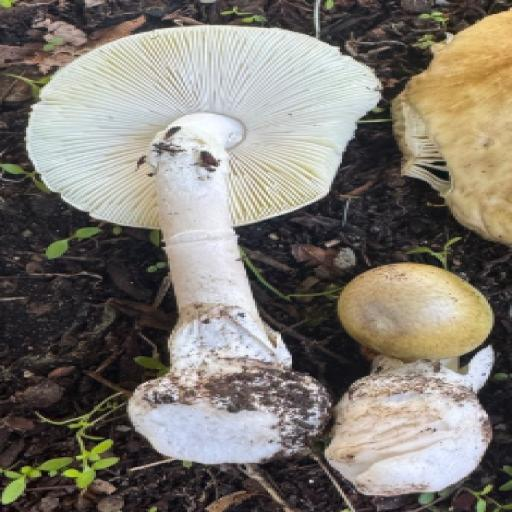mushroom: (0, 0, 385, 472), (321, 261, 492, 492), (408, 13, 510, 232)
